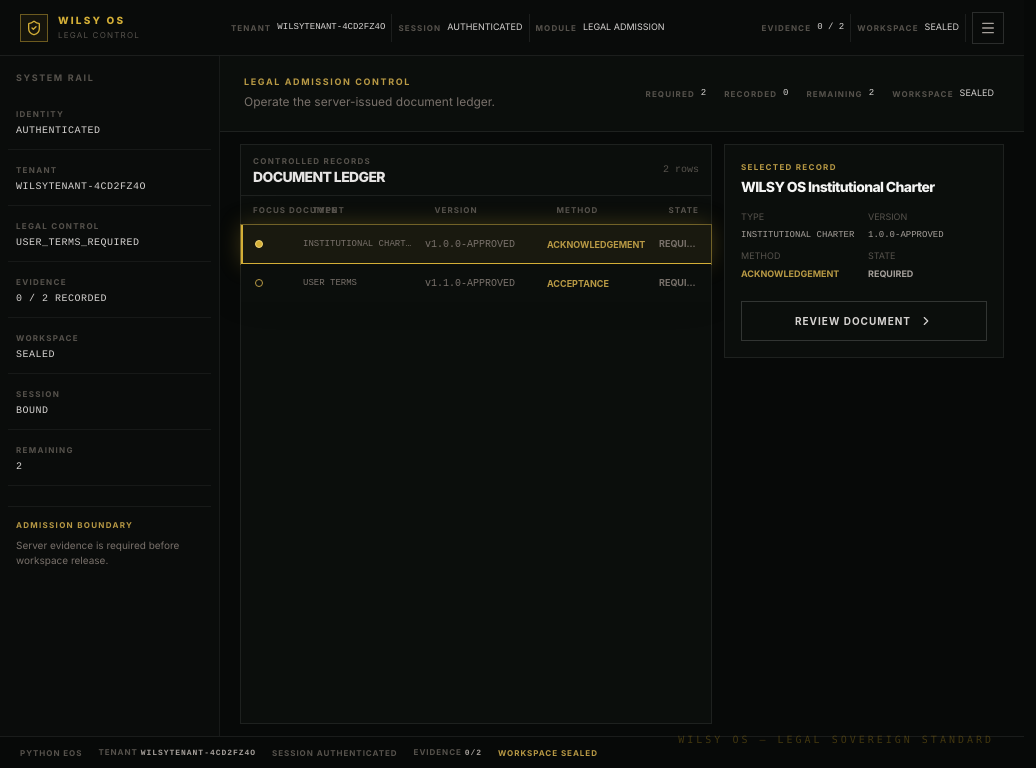
Scenario: LegalAcceptanceGate institutional interaction shell › keeps navigation read-only and does not POST on next or previous
Check: the heading "Document ledger" is shown, box x1=253 y1=171 x2=385 y2=185
Step 1. Click the button "Review document" → coordinates (864, 321), box x1=741 y1=301 x2=987 y2=341
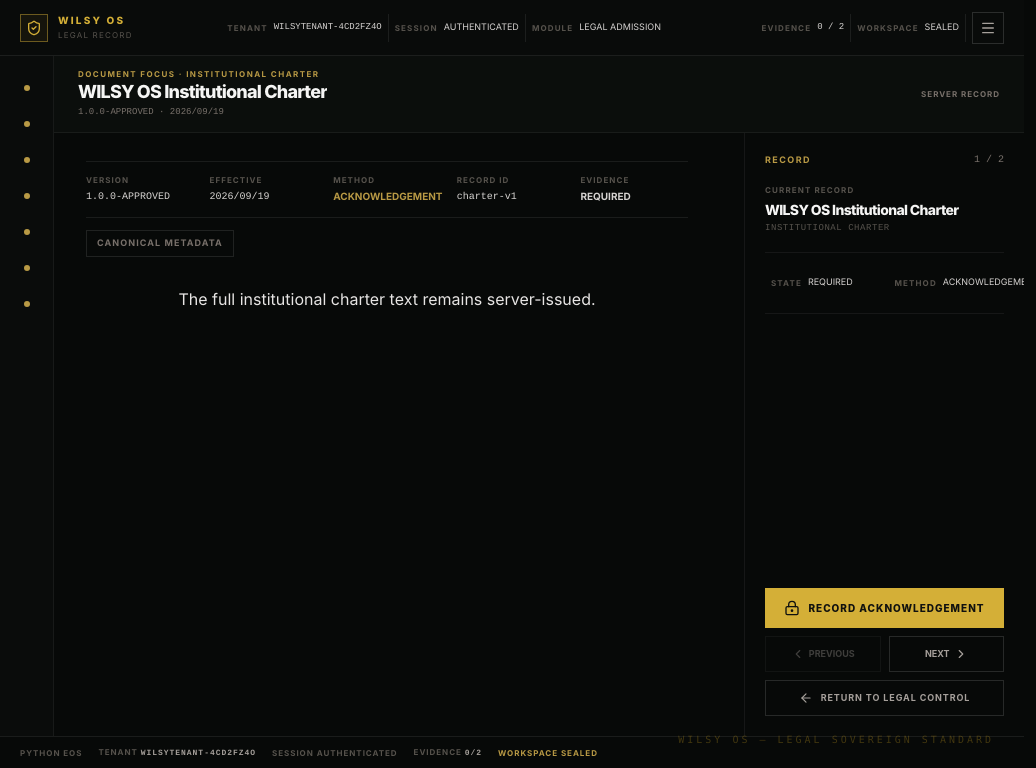
Step 2. Click the button with aria-label "next record" → coordinates (946, 654), box x1=888 y1=636 x2=1004 y2=672
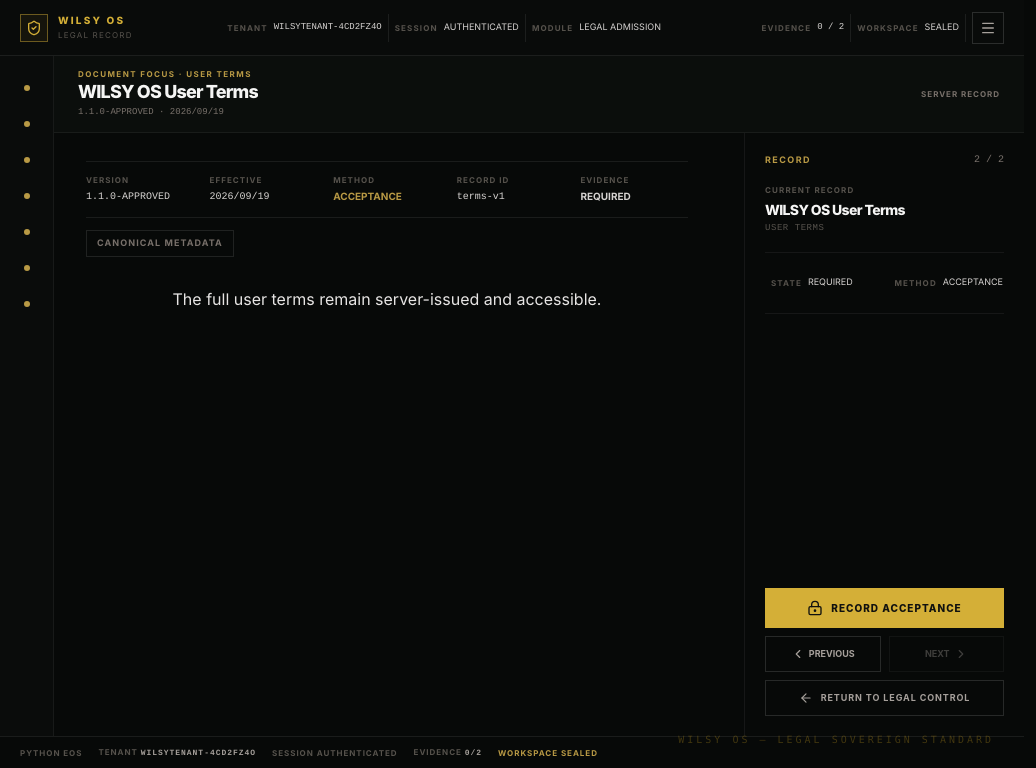
Step 3. Click the button with aria-label "previous record" → coordinates (823, 654), box x1=765 y1=636 x2=880 y2=672
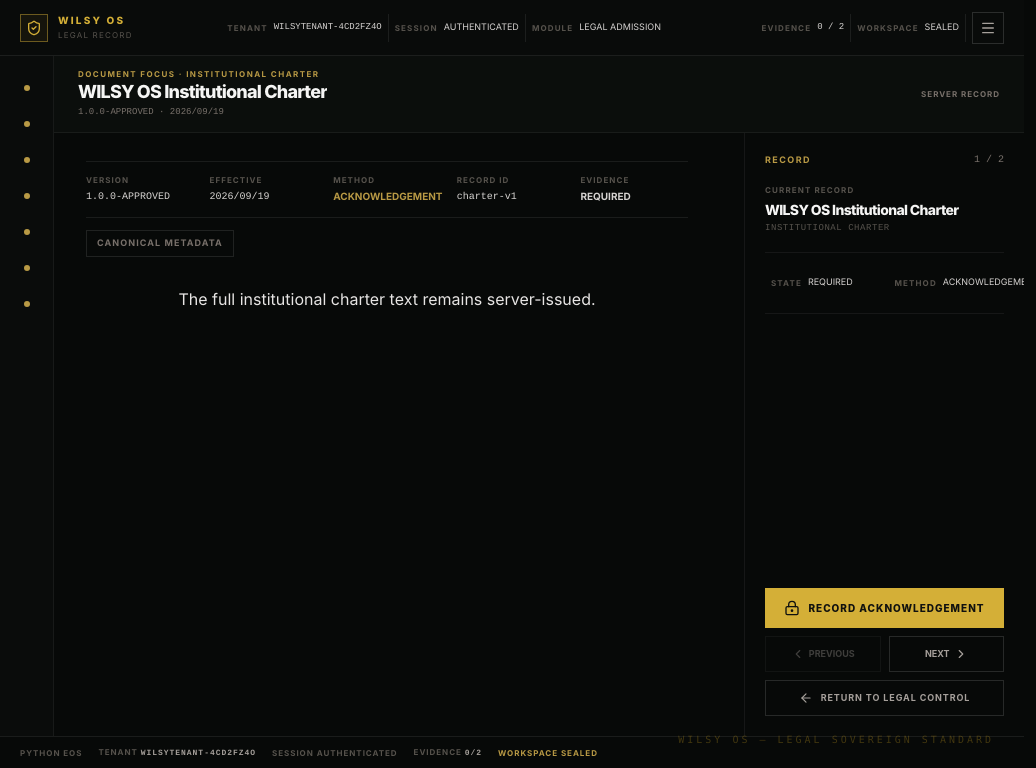
Check: the heading "WILSY OS Institutional Charter" below "Document focus ·" is shown, box x1=78 y1=84 x2=327 y2=102
